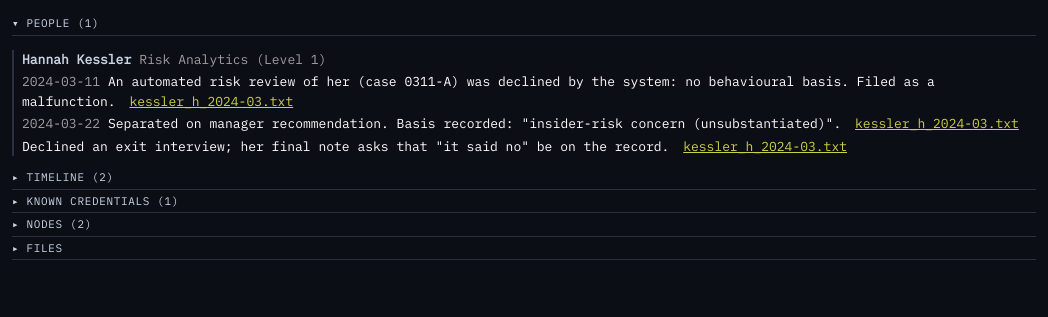
Test case: CasePane — a credential found in a document › shows the level once the credential is obtained
The image size is (1048, 317).
Click the button "▸ KNOWN CREDENTIALS (1)". click: (99,200)
box: x1=12 y1=190 x2=1036 y2=213
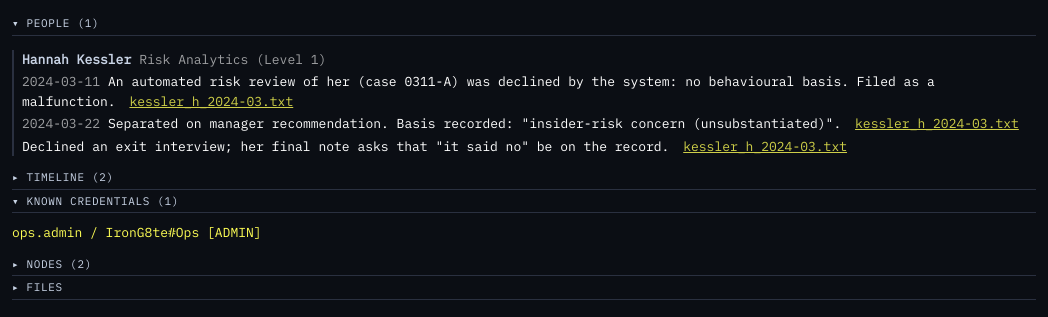
Expected: the text with test id "case-account-ops.admin" shows "[ADMIN]", x1=12 y1=224 x2=262 y2=241
